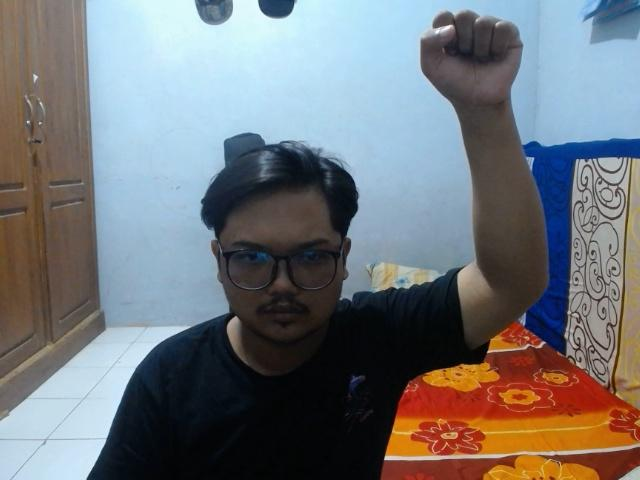Grab: (414, 3, 529, 114)
